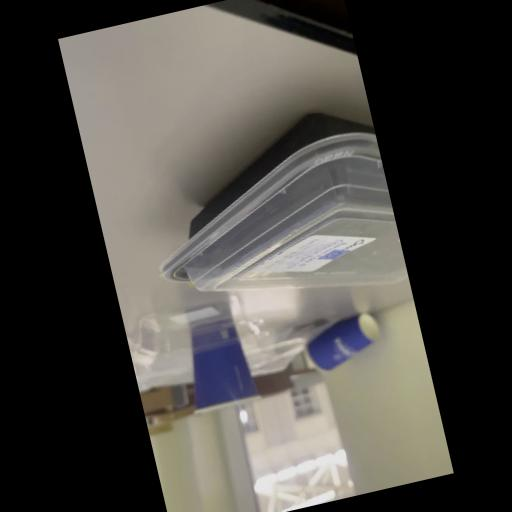lp_paper_cup: (186, 344, 258, 413), (300, 318, 364, 376)
rigid_plastic_container: (136, 106, 408, 331)
